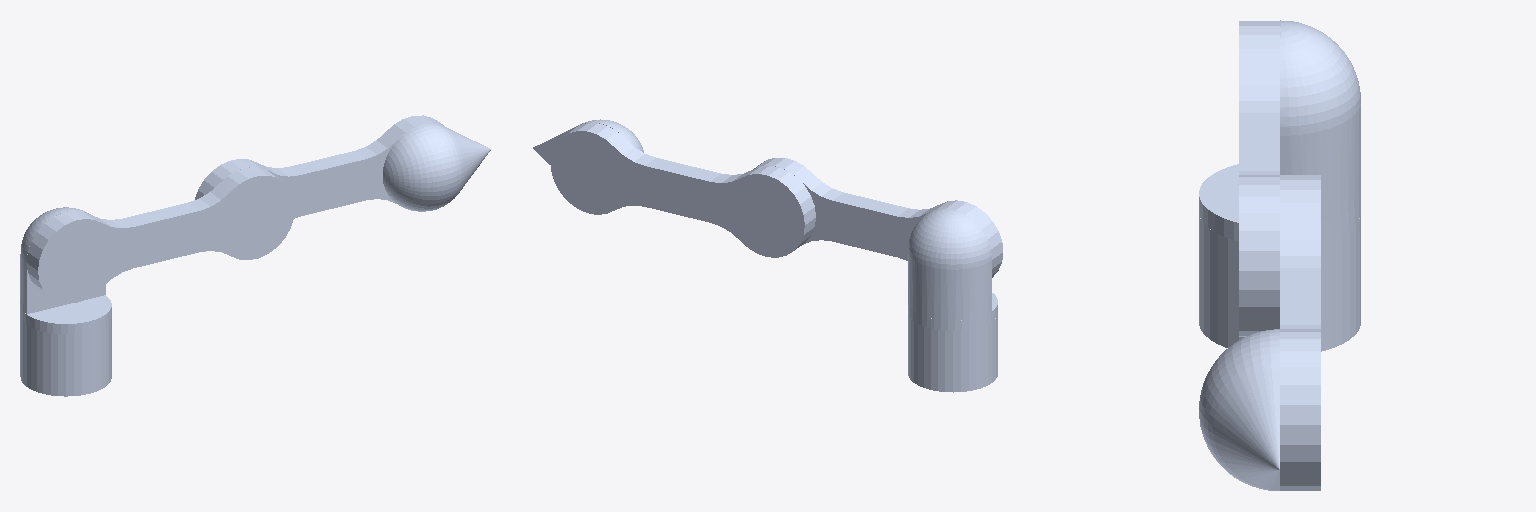
URDF robot description (robotic):
<?xml version="1.0" encoding="utf-8"?>
<!-- This URDF was automatically created by SolidWorks to URDF Exporter! Originally created by Stephen Brawner (brawner@gmail.com) 
     Commit Version: 1.6.0-4-g7f85cfe  Build Version: 1.6.7995.38578
     For more information, please see http://wiki.ros.org/sw_urdf_exporter -->
<robot
  name="robotic">
  <link
    name="base_link">
    <inertial>
      <origin
        xyz="0 -2.12772917167606E-18 0.03"
        rpy="0 0 0" />
      <mass
        value="0.814300815810474" />
      <inertia
        ixx="0.000570010571067332"
        ixy="0"
        ixz="1.88833242477094E-36"
        iyy="0.000570010571067332"
        iyz="1.69225837313788E-36"
        izz="0.00065144065264838" />
    </inertial>
    <visual>
      <origin
        xyz="0 0 0"
        rpy="0 0 0" />
      <geometry>
        <mesh
          filename="package://robotic_description/meshes/base_link.STL" />
      </geometry>
      <material
        name="">
        <color
          rgba="0.866666666666667 0.909803921568627 1 1" />
      </material>
    </visual>
    <collision>
      <origin
        xyz="0 0 0"
        rpy="0 0 0" />
      <geometry>
        <mesh
          filename="package://robotic_description/meshes/base_link.STL" />
      </geometry>
    </collision>
  </link>
  <link
    name="link1">
    <inertial>
      <origin
        xyz="-3.00707779693663E-17 0.0129188934119666 -0.0201724137931035"
        rpy="0 0 0" />
      <mass
        value="0.65596454606955" />
      <inertia
        ixx="0.000387701545257386"
        ixy="-2.52105894300884E-19"
        ixz="-2.79017645747248E-19"
        iyy="0.000525740340120825"
        iyz="1.31814046330909E-05"
        izz="0.000357779924096717" />
    </inertial>
    <visual>
      <origin
        xyz="0 0 0"
        rpy="0 0 0" />
      <geometry>
        <mesh
          filename="package://robotic_description/meshes/link1.STL" />
      </geometry>
      <material
        name="">
        <color
          rgba="0.866666666666667 0.909803921568627 1 1" />
      </material>
    </visual>
    <collision>
      <origin
        xyz="0 0 0"
        rpy="0 0 0" />
      <geometry>
        <mesh
          filename="package://robotic_description/meshes/link1.STL" />
      </geometry>
    </collision>
  </link>
  <joint
    name="joint1"
    type="revolute">
    <origin
      xyz="0 0 0.12"
      rpy="0 0 0" />
    <parent
      link="base_link" />
    <child
      link="link1" />
    <axis
      xyz="0 0 1" />
    <limit
      lower="-3.14159265359"
      upper="3.14159265359"
      effort="10.0"
      velocity="2.0" />
  </joint>
  <link
    name="link2">
    <inertial>
      <origin
        xyz="0.09 1.38777878078145E-17 0.01"
        rpy="0 0 0" />
      <mass
        value="0.77745138775583" />
      <inertia
        ixx="0.000279328904100543"
        ixy="8.88249448649825E-19"
        ixz="-1.4656606478674E-20"
        iyy="0.00487075602349334"
        iyz="-1.15056687303063E-21"
        izz="0.00509825483507683" />
    </inertial>
    <visual>
      <origin
        xyz="0 0 0"
        rpy="0 0 0" />
      <geometry>
        <mesh
          filename="package://robotic_description/meshes/link2.STL" />
      </geometry>
      <material
        name="">
        <color
          rgba="0.866666666666667 0.909803921568627 1 1" />
      </material>
    </visual>
    <collision>
      <origin
        xyz="0 0 0"
        rpy="0 0 0" />
      <geometry>
        <mesh
          filename="package://robotic_description/meshes/link2.STL" />
      </geometry>
    </collision>
  </link>
  <joint
    name="joint2"
    type="revolute">
    <origin
      xyz="0 0 0"
      rpy="1.5708 0 0" />
    <parent
      link="link1" />
    <child
      link="link2" />
    <axis
      xyz="0 0 1" />
    <limit
      lower="0"
      upper="3.14159265359"
      effort="10.0"
      velocity="2.0" />
  </joint>
  <link
    name="link3">
    <inertial>
      <origin
        xyz="0.09 0 -0.01"
        rpy="0 0 0" />
      <mass
        value="0.77745138775583" />
      <inertia
        ixx="0.000279328904100543"
        ixy="6.90413085475581E-19"
        ixz="-2.59910488221818E-20"
        iyy="0.00487075602349334"
        iyz="-1.06681483600964E-21"
        izz="0.00509825483507683" />
    </inertial>
    <visual>
      <origin
        xyz="0 0 0"
        rpy="0 0 0" />
      <geometry>
        <mesh
          filename="package://robotic_description/meshes/link3.STL" />
      </geometry>
      <material
        name="">
        <color
          rgba="0.866666666666667 0.909803921568627 1 1" />
      </material>
    </visual>
    <collision>
      <origin
        xyz="0 0 0"
        rpy="0 0 0" />
      <geometry>
        <mesh
          filename="package://robotic_description/meshes/link3.STL" />
      </geometry>
    </collision>
  </link>
  <joint
    name="joint3"
    type="revolute">
    <origin
      xyz="0.18 0 0"
      rpy="0 0 0" />
    <parent
      link="link2" />
    <child
      link="link3" />
    <axis
      xyz="0 0 1" />
    <limit
      lower="-2.51327412287"
      upper="2.51327412287"
      effort="10.0"
      velocity="2.0" />
  </joint>
  <link
    name="link4">
    <inertial>
      <origin
        xyz="0.00321428571428573 -1.38777878078145E-17 0.0145524874851272"
        rpy="0 0 0" />
      <mass
        value="0.390993645686776" />
      <inertia
        ixx="0.000155942870643766"
        ixy="-1.02117640798283E-19"
        ixz="7.783646153365E-06"
        iyy="0.000204328334297505"
        iyz="3.58320027597311E-20"
        izz="0.000287130971387378" />
    </inertial>
    <visual>
      <origin
        xyz="0 0 0"
        rpy="0 0 0" />
      <geometry>
        <mesh
          filename="package://robotic_description/meshes/link4.STL" />
      </geometry>
      <material
        name="">
        <color
          rgba="0.866666666666667 0.909803921568627 1 1" />
      </material>
    </visual>
    <collision>
      <origin
        xyz="0 0 0"
        rpy="0 0 0" />
      <geometry>
        <mesh
          filename="package://robotic_description/meshes/link4.STL" />
      </geometry>
    </collision>
  </link>
  <joint
    name="joint4"
    type="revolute">
    <origin
      xyz="0.18 0 0"
      rpy="0 0 0" />
    <parent
      link="link3" />
    <child
      link="link4" />
    <axis
      xyz="0 0 1" />
    <limit
      lower="-2.09439510239"
      upper="2.09439510239"
      effort="10.0"
      velocity="2.0" />
  </joint>
</robot>

--- Render facts (derived) ---
3 views of the same robot in one strip: view 1: azimuth 30°, elevation 25°; view 2: azimuth 150°, elevation 25°; view 3: azimuth 270°, elevation 25° (orthographic).
Robot: robotic — 5 links, 4 joints (4 revolute); root link base_link; default pose: all joints at 0.
Visible links, largest first — view 1: link2, link3, link4, base_link, link1; view 2: link3, link1, link2, base_link, link4; view 3: link1, link3, link2, link4, base_link.
Link boxes in pixels (bbox=[...]): link2: bbox=[27, 167, 294, 303]; link3: bbox=[195, 115, 443, 218]; link4: bbox=[383, 124, 490, 211]; base_link: bbox=[20, 315, 111, 396]; link1: bbox=[20, 207, 111, 333]; link3: bbox=[551, 123, 815, 257]; link1: bbox=[908, 209, 997, 330]; link2: bbox=[754, 158, 1002, 277]; base_link: bbox=[908, 315, 997, 392]; link4: bbox=[533, 119, 643, 164]; link1: bbox=[1199, 20, 1360, 240]; link3: bbox=[1280, 175, 1320, 490]; link2: bbox=[1239, 21, 1279, 336]; link4: bbox=[1199, 329, 1279, 490]; base_link: bbox=[1199, 216, 1360, 351].
Bounding box of the posed robot: 0.47 × 0.08 × 0.16 m (x, y, z).
5 mesh visuals loaded from 5 distinct referenced files (5 binary STL).
